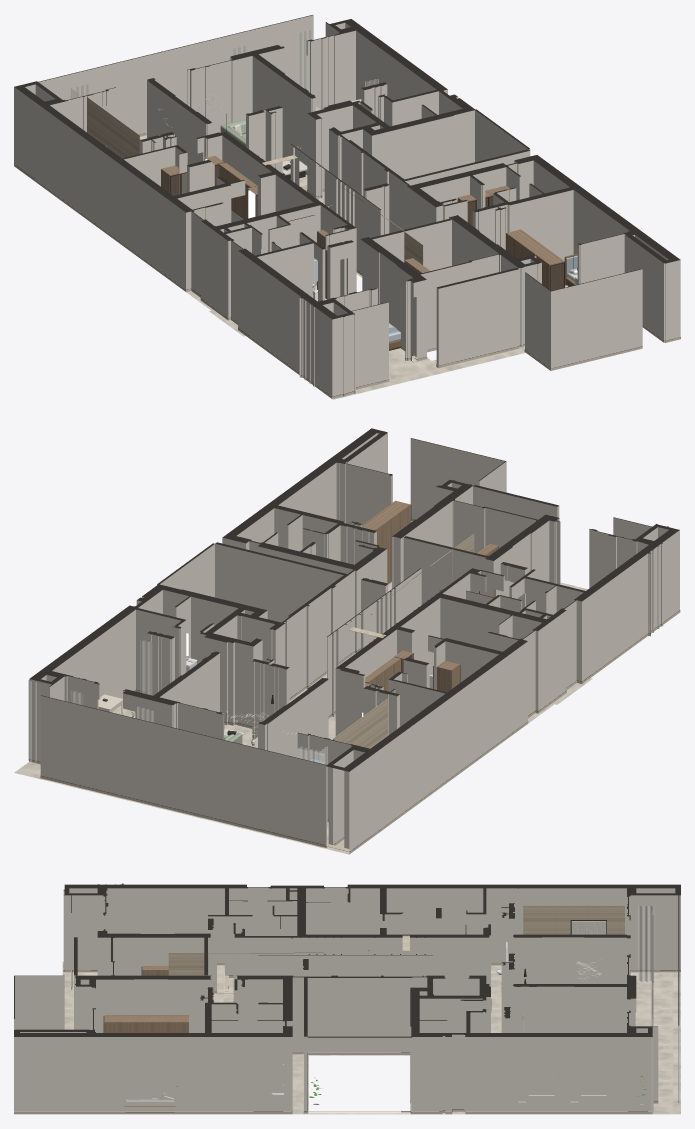
File: ff_house_v8.glb
3 renders of one model, top to bottom at view 1: azimuth 30°, elevation 25°; view 2: azimuth 150°, elevation 25°; view 3: azimuth 270°, elevation 25°, orthographic. The views are drawn at different scales.
Parts seen in each view (by area): view 1: MeshStandardMaterial_14, MeshStandardMaterial_15, MeshStandardMaterial_7, MeshStandardMaterial_1, MeshStandardMaterial_5, MeshStandardMaterial_16, MeshStandardMaterial_87, MeshStandardMaterial_104; view 2: MeshStandardMaterial_14, MeshStandardMaterial_15, MeshStandardMaterial_7, MeshStandardMaterial_16, MeshStandardMaterial_104, MeshStandardMaterial_1, MeshStandardMaterial_5; view 3: MeshStandardMaterial_14, MeshStandardMaterial_15, MeshStandardMaterial_1, MeshStandardMaterial_5, MeshStandardMaterial_16, MeshStandardMaterial_7, MeshStandardMaterial_104, MeshStandardMaterial_91.
Part boxes in pixels (x1,y1,x2,y2): MeshStandardMaterial_14: (14, 15, 680, 396); MeshStandardMaterial_15: (14, 15, 680, 319); MeshStandardMaterial_7: (161, 155, 564, 299); MeshStandardMaterial_1: (140, 135, 568, 399); MeshStandardMaterial_5: (87, 97, 423, 265); MeshStandardMaterial_16: (14, 133, 680, 398); MeshStandardMaterial_87: (170, 165, 564, 294); MeshStandardMaterial_104: (70, 30, 378, 98); MeshStandardMaterial_14: (29, 432, 679, 853); MeshStandardMaterial_15: (29, 428, 679, 771); MeshStandardMaterial_7: (363, 500, 498, 692); MeshStandardMaterial_16: (29, 518, 680, 853); MeshStandardMaterial_104: (28, 639, 327, 827); MeshStandardMaterial_1: (14, 582, 680, 854); MeshStandardMaterial_5: (333, 534, 474, 748); MeshStandardMaterial_14: (14, 887, 680, 1111); MeshStandardMaterial_15: (14, 883, 680, 1037); MeshStandardMaterial_1: (62, 961, 680, 1114); MeshStandardMaterial_5: (168, 905, 624, 975); MeshStandardMaterial_16: (14, 963, 680, 1114); MeshStandardMaterial_7: (104, 932, 402, 1032); MeshStandardMaterial_104: (522, 905, 654, 1113); MeshStandardMaterial_91: (571, 921, 606, 934).
Bounding box in the file's own units: 12.9 × 3.02 × 23.57.
98 materials, 16 textured.
